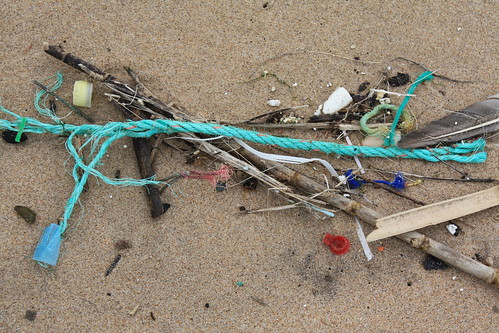trash: (1, 1, 490, 320)
